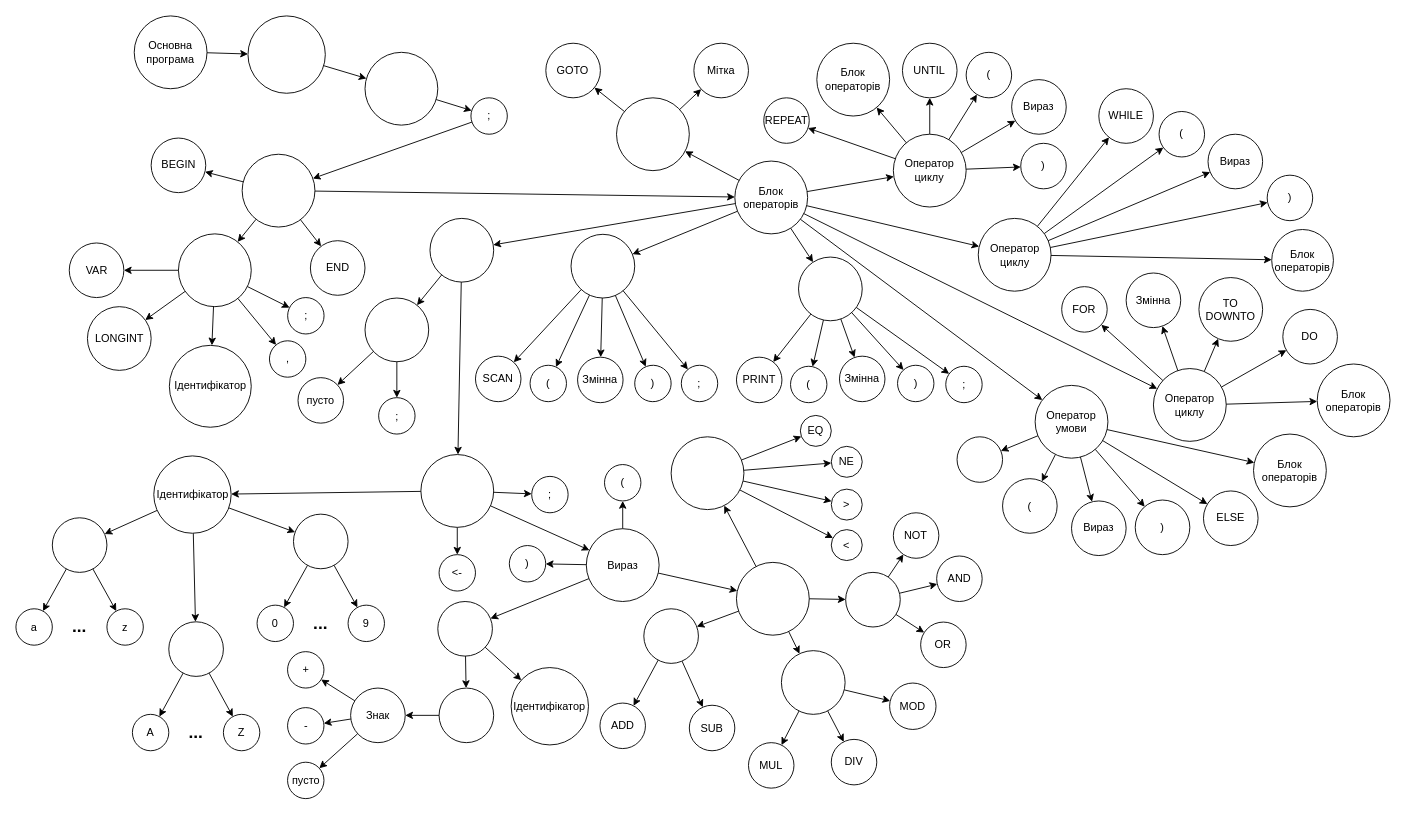
This 1406x815 diagram has some shape labels left out. The centre of each missing label's shape, as x and y in pixels:
"IF" goes at [979,459].
"PROGRAM" goes at [286,54].
"Адитивна операція" goes at [670,635].
"Блок змінних" goes at [214,270].
"Блок коду" goes at [278,190].
"Велика буква" goes at [195,648].
"Константа" goes at [466,715].
"Логічна операція" goes at [872,599].
"Мала буква" goes at [79,544].
"Мультиплі кативна операція" goes at [813,682].
"Операнд" goes at [464,628].
"Оператор вводу" goes at [602,265].
"Оператор виводу" goes at [830,288].
"Оператор переходу" goes at [652,134].
"Операції" goes at [772,598].
"Операції порівняння" goes at [707,473].
"Порожній оператор" goes at [396,329].
"Присвоєння" goes at [457,490].
"Простий оператор" goes at [461,249].
"Цифра" goes at [320,541].
"Ім'я програми" goes at [401,88].
